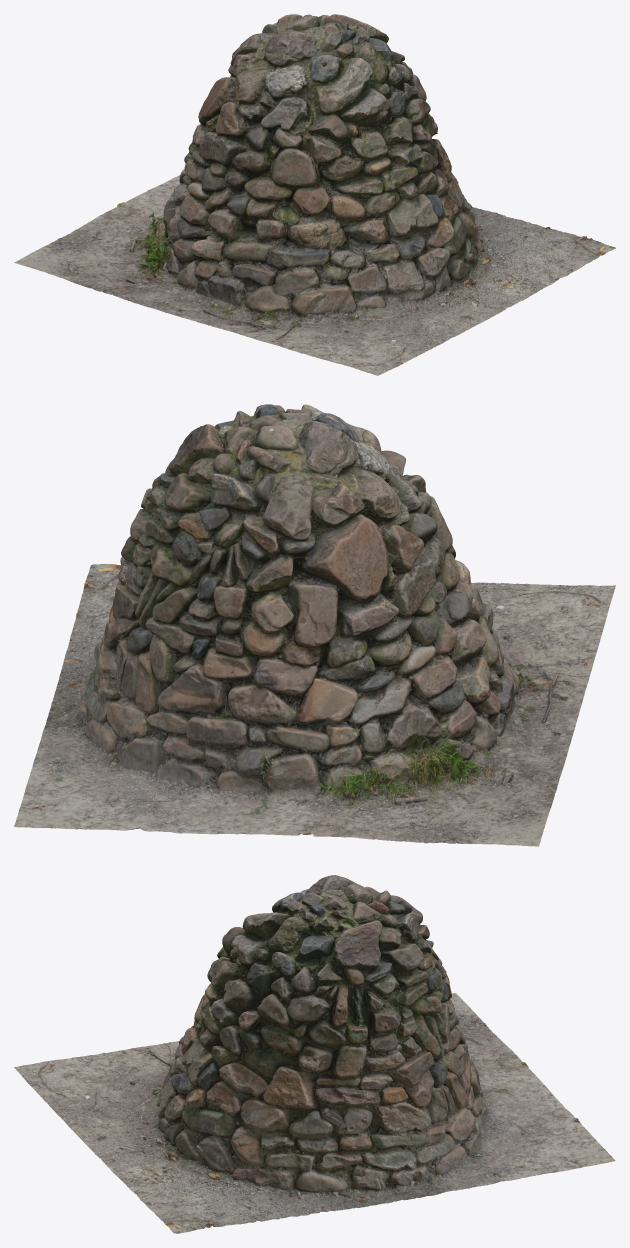
Rendered from sf-stone-concrete-pile-53ef65.glb.
The picture shows the model from 3 angles, top to bottom: view 1: azimuth 30°, elevation 25°; view 2: azimuth 150°, elevation 25°; view 3: azimuth 270°, elevation 25°; orthographic projection. The views are drawn at different scales.
Parts seen in each view (by area): view 1: Model_material2_0, Model_material3_0, Model_material0_0, Model_material1_0; view 2: Model_material0_0, Model_material1_0, Model_material3_0, Model_material2_0; view 3: Model_material1_0, Model_material2_0, Model_material3_0, Model_material0_0.
Boxes of the visible parts, <box> form: Model_material2_0: <box>103,15,615,375</box>; Model_material3_0: <box>70,21,561,333</box>; Model_material0_0: <box>14,14,599,332</box>; Model_material1_0: <box>48,23,472,329</box>; Model_material0_0: <box>82,404,550,846</box>; Model_material1_0: <box>14,404,583,839</box>; Model_material3_0: <box>45,405,586,834</box>; Model_material2_0: <box>79,405,615,820</box>; Model_material1_0: <box>157,886,615,1193</box>; Model_material2_0: <box>14,875,481,1233</box>; Model_material3_0: <box>115,892,578,1223</box>; Model_material0_0: <box>72,881,542,1221</box>.
Bounding box in the file's own units: 1.91 × 0.8866 × 2.02.
Materials: 4 (4 with a texture image).
